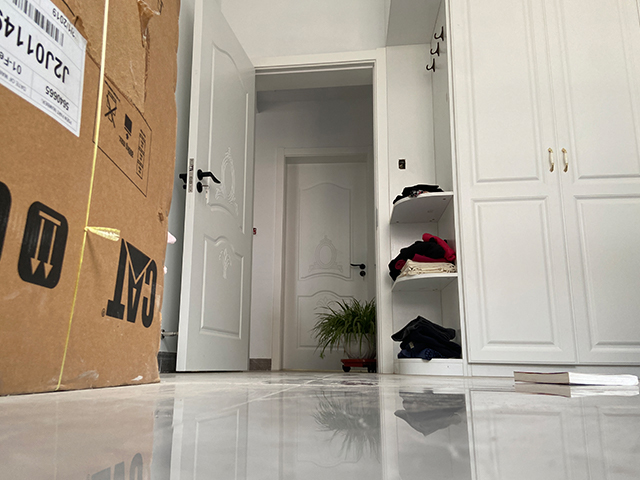book: (512, 370, 639, 387)
cabinet: (386, 96, 640, 381)
